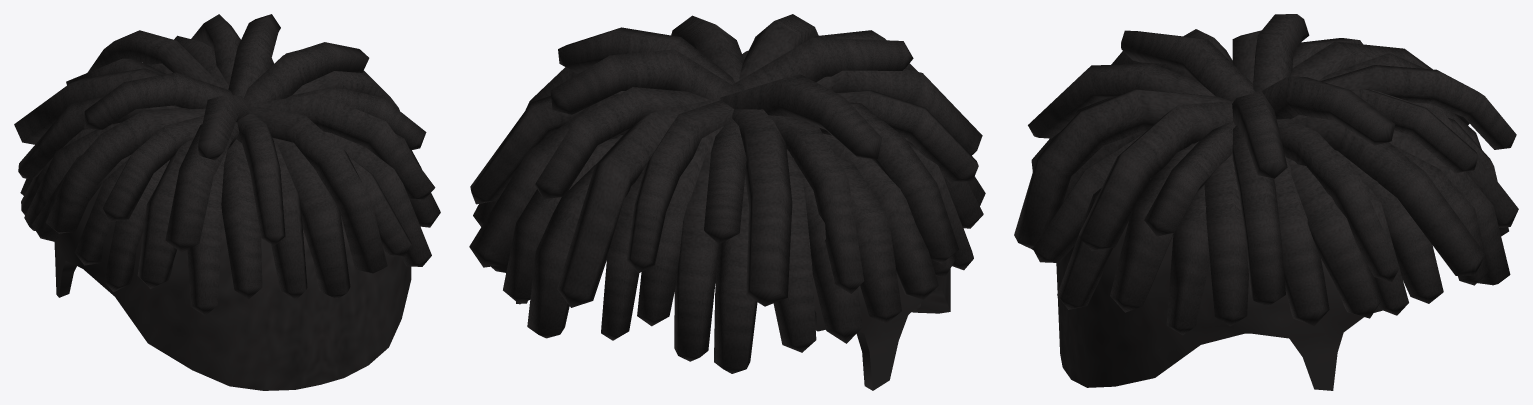
3 views of the same model, side by side, from view 1: azimuth 30°, elevation 25°; view 2: azimuth 150°, elevation 25°; view 3: azimuth 270°, elevation 25° (orthographic). The views are drawn at different scales.
Visible parts, largest first — view 1: geometry_0; view 2: geometry_0; view 3: geometry_0.
Boxes of the visible parts, box(x1,y1,x2,y2) form: geometry_0: box(14, 14, 440, 390); geometry_0: box(469, 14, 985, 390); geometry_0: box(1014, 14, 1518, 390).
Size of the model in its own units: 1.43 by 0.9877 by 1.5.
1 material, 1 textured.
